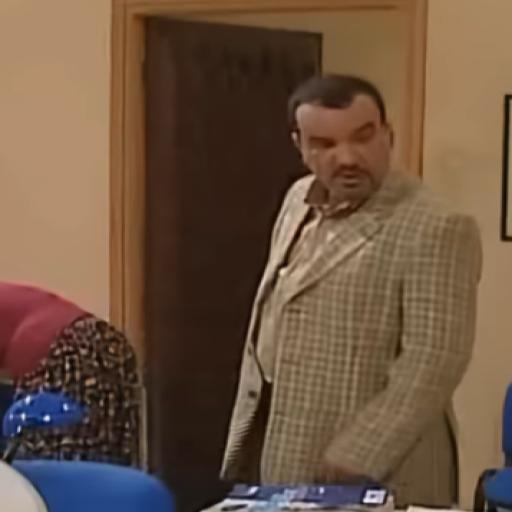slimane: (289, 75, 394, 214)
